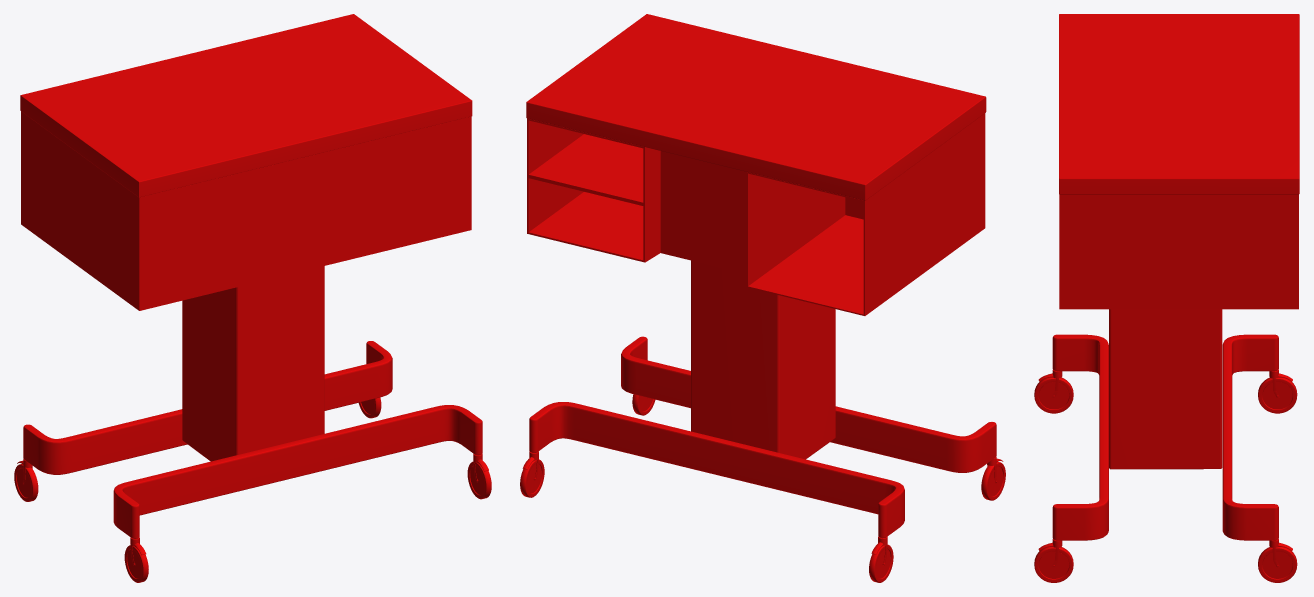
File: Table_1.fbx
3 renders of one model, left to right at view 1: azimuth 30°, elevation 25°; view 2: azimuth 150°, elevation 25°; view 3: azimuth 270°, elevation 25°, orthographic.
Visible parts, largest first — view 1: L16:pCube50; view 2: L16:pCube50; view 3: L16:pCube50.
Boxes of the visible parts, x1,y1,x2,y2 form: L16:pCube50: (14, 14, 491, 582); L16:pCube50: (520, 14, 1005, 582); L16:pCube50: (1034, 14, 1299, 582).
Bounding box in the file's own units: 85.78 × 92.47 × 55.42.
